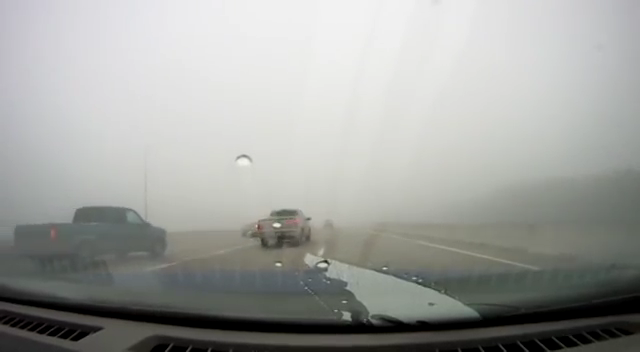car: (14, 206, 168, 265), (257, 208, 313, 248), (243, 222, 261, 236), (324, 219, 334, 228)
